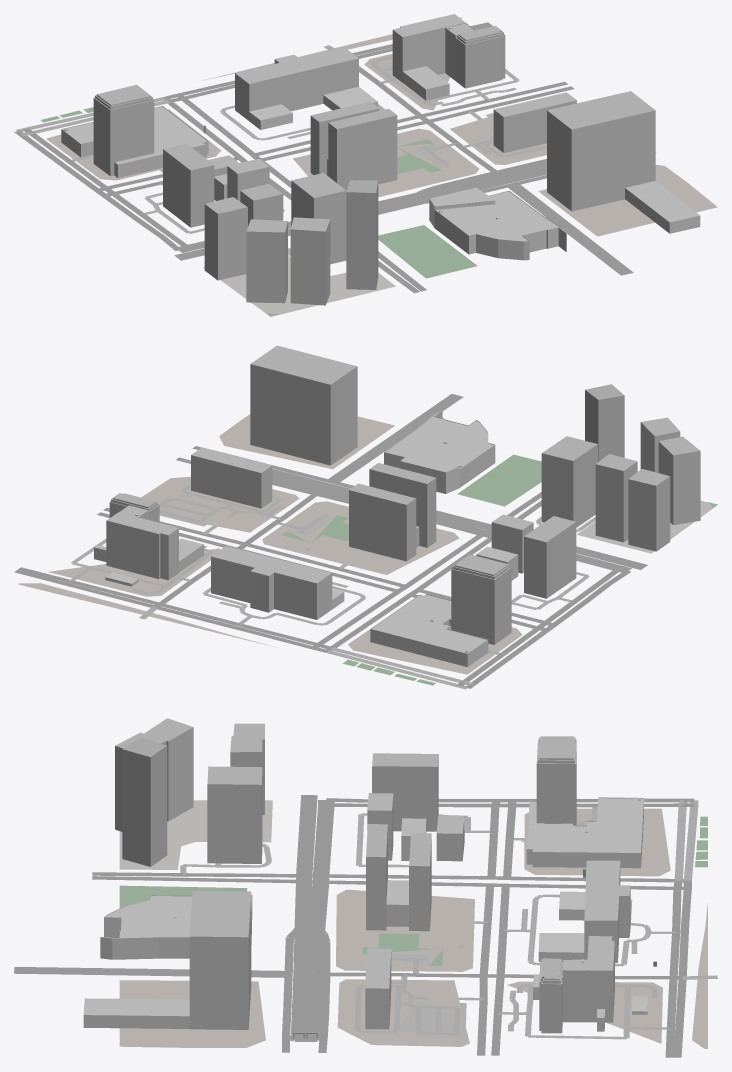
The picture shows the model from 3 angles, top to bottom: view 1: azimuth 30°, elevation 25°; view 2: azimuth 150°, elevation 25°; view 3: azimuth 270°, elevation 25°; orthographic projection. The views are drawn at different scales.
Bounding box in the file's own units: 528 × 104 × 598.
